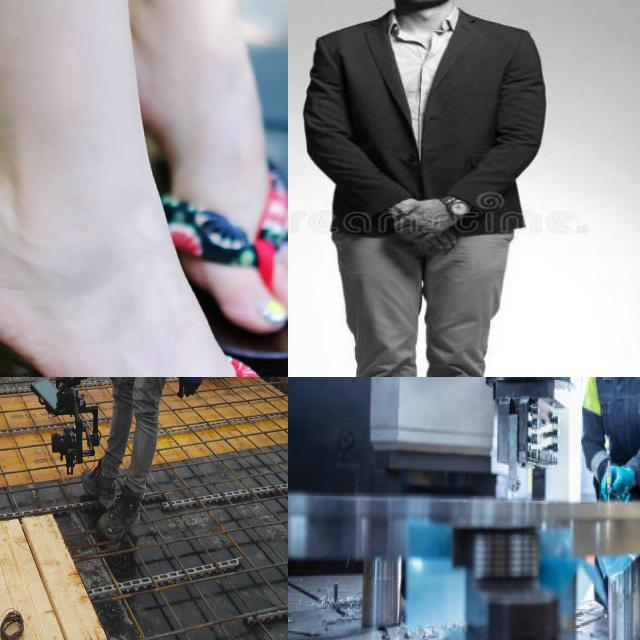Sandals: (0, 118, 288, 377)
hand_glove: (173, 377, 207, 403), (611, 466, 635, 501), (60, 377, 96, 390)
hand_noglove: (383, 178, 460, 255)
person: (299, 0, 547, 377), (43, 377, 178, 531)
shoes: (98, 489, 148, 543), (80, 458, 115, 507)
